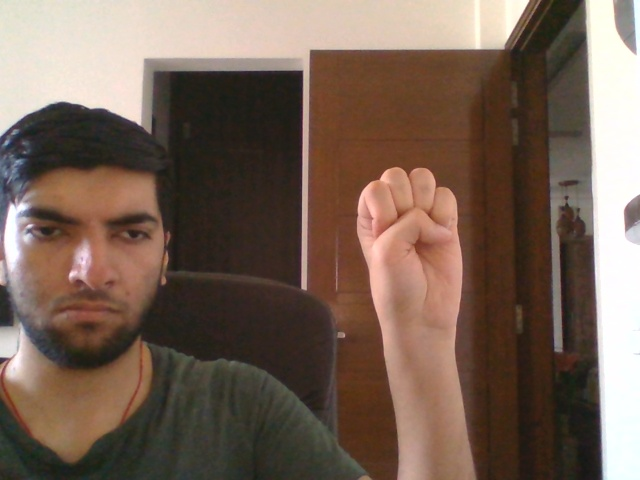LetterS: (355, 164, 466, 333)
